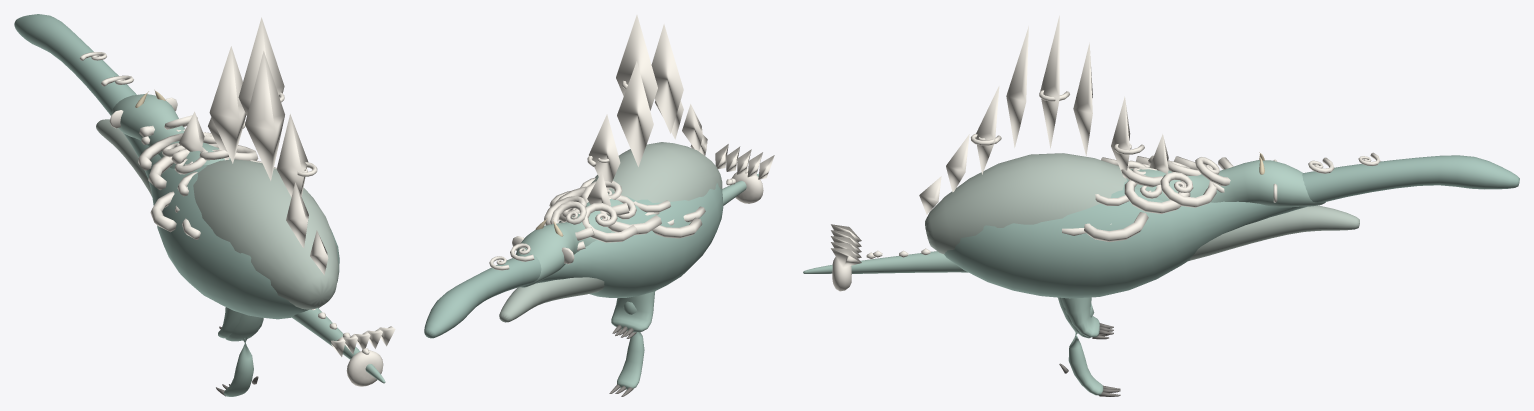
The model's file is saurian-kit.glb.
The picture shows the model from 3 angles, left to right: view 1: azimuth 30°, elevation 25°; view 2: azimuth 150°, elevation 25°; view 3: azimuth 270°, elevation 25°; orthographic projection. The views are drawn at different scales.
Parts seen in each view (by area): view 1: spiky_body, plump_body, spiky_plate_4, sleek_body, spiky_plate_2, spiky_plate_3, spiky_plate_5, tail_whip_body, tail_club_club, legs_stilts_limb, tail_fan, sleek_shell_4 (+9 smaller); view 2: plump_body, spiky_body, sleek_body, spiky_plate_2, spiky_plate_4, spiky_plate_3, legs_paddles_limb, spiky_plate_1, tail_fan, legs_stilts_limb, sleek_shell_2, sleek_shell_4 (+8 smaller); view 3: plump_body, spiky_body, sleek_body, tail_whip_body, spiky_plate_3, spiky_plate_4, spiky_plate_2, sleek_shell_1, sleek_shell_3, tail_fan, legs_paddles_limb, legs_stilts_limb (+6 smaller).
Part boxes in pixels (x1,y1,x2,y2): spiky_body: (96,119,338,309); plump_body: (14,14,339,319); spiky_plate_4: (245,51,284,180); sleek_body: (111,94,230,168); spiky_plate_2: (209,46,246,163); spiky_plate_3: (238,17,284,115); spiky_plate_5: (276,114,308,197); tail_whip_body: (292,308,385,383); tail_club_club: (346,350,383,386); legs_stilts_limb: (224,337,253,396); tail_fan: (331,326,395,356); sleek_shell_4: (148,147,207,190); plump_body: (424,183,723,338); spiky_body: (499,142,722,322); sleek_body: (516,191,623,287); spiky_plate_2: (617,61,653,166); spiky_plate_4: (651,24,683,133); spiky_plate_3: (616,15,657,110); legs_paddles_limb: (611,291,655,332); spiky_plate_1: (589,114,620,189); tail_fan: (715,144,774,179); legs_stilts_limb: (617,301,644,389); sleek_shell_2: (582,203,637,242); sleek_shell_4: (600,194,661,235); plump_body: (944,155,1519,298); spiky_body: (925,153,1359,261); sleek_body: (1126,160,1325,207); tail_whip_body: (803,251,968,273); spiky_plate_3: (1040,15,1059,148); spiky_plate_4: (1006,26,1028,147); spiky_plate_2: (1073,42,1092,156); sleek_shell_1: (1160,172,1216,207); sleek_shell_3: (1124,174,1190,213); tail_fan: (831,224,861,267); legs_paddles_limb: (1061,297,1099,337); legs_stilts_limb: (1068,304,1103,395).
Bounding box in the file's own units: 1.04 × 2.6 × 4.4.
